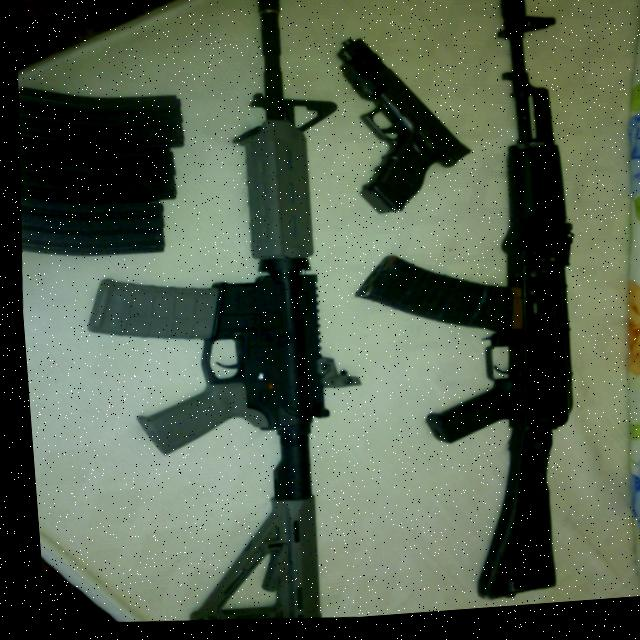firearm: (48, 0, 392, 637), (324, 0, 607, 620)
pistol: (326, 34, 480, 229)
